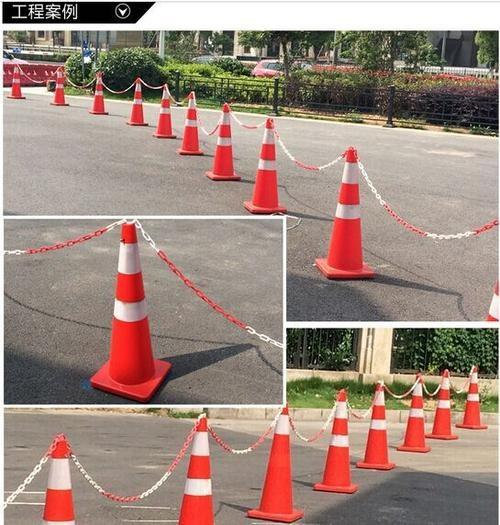cone_barrel: (90, 224, 169, 401), (312, 146, 375, 278), (246, 401, 303, 520), (164, 414, 227, 520), (310, 388, 357, 494), (242, 117, 290, 216), (34, 434, 80, 523), (202, 98, 243, 184), (356, 380, 394, 468), (396, 375, 429, 451), (175, 89, 202, 157), (456, 366, 484, 431), (428, 369, 454, 439), (151, 85, 174, 138), (124, 78, 149, 126), (86, 69, 110, 114), (48, 64, 69, 107), (6, 62, 25, 97)
